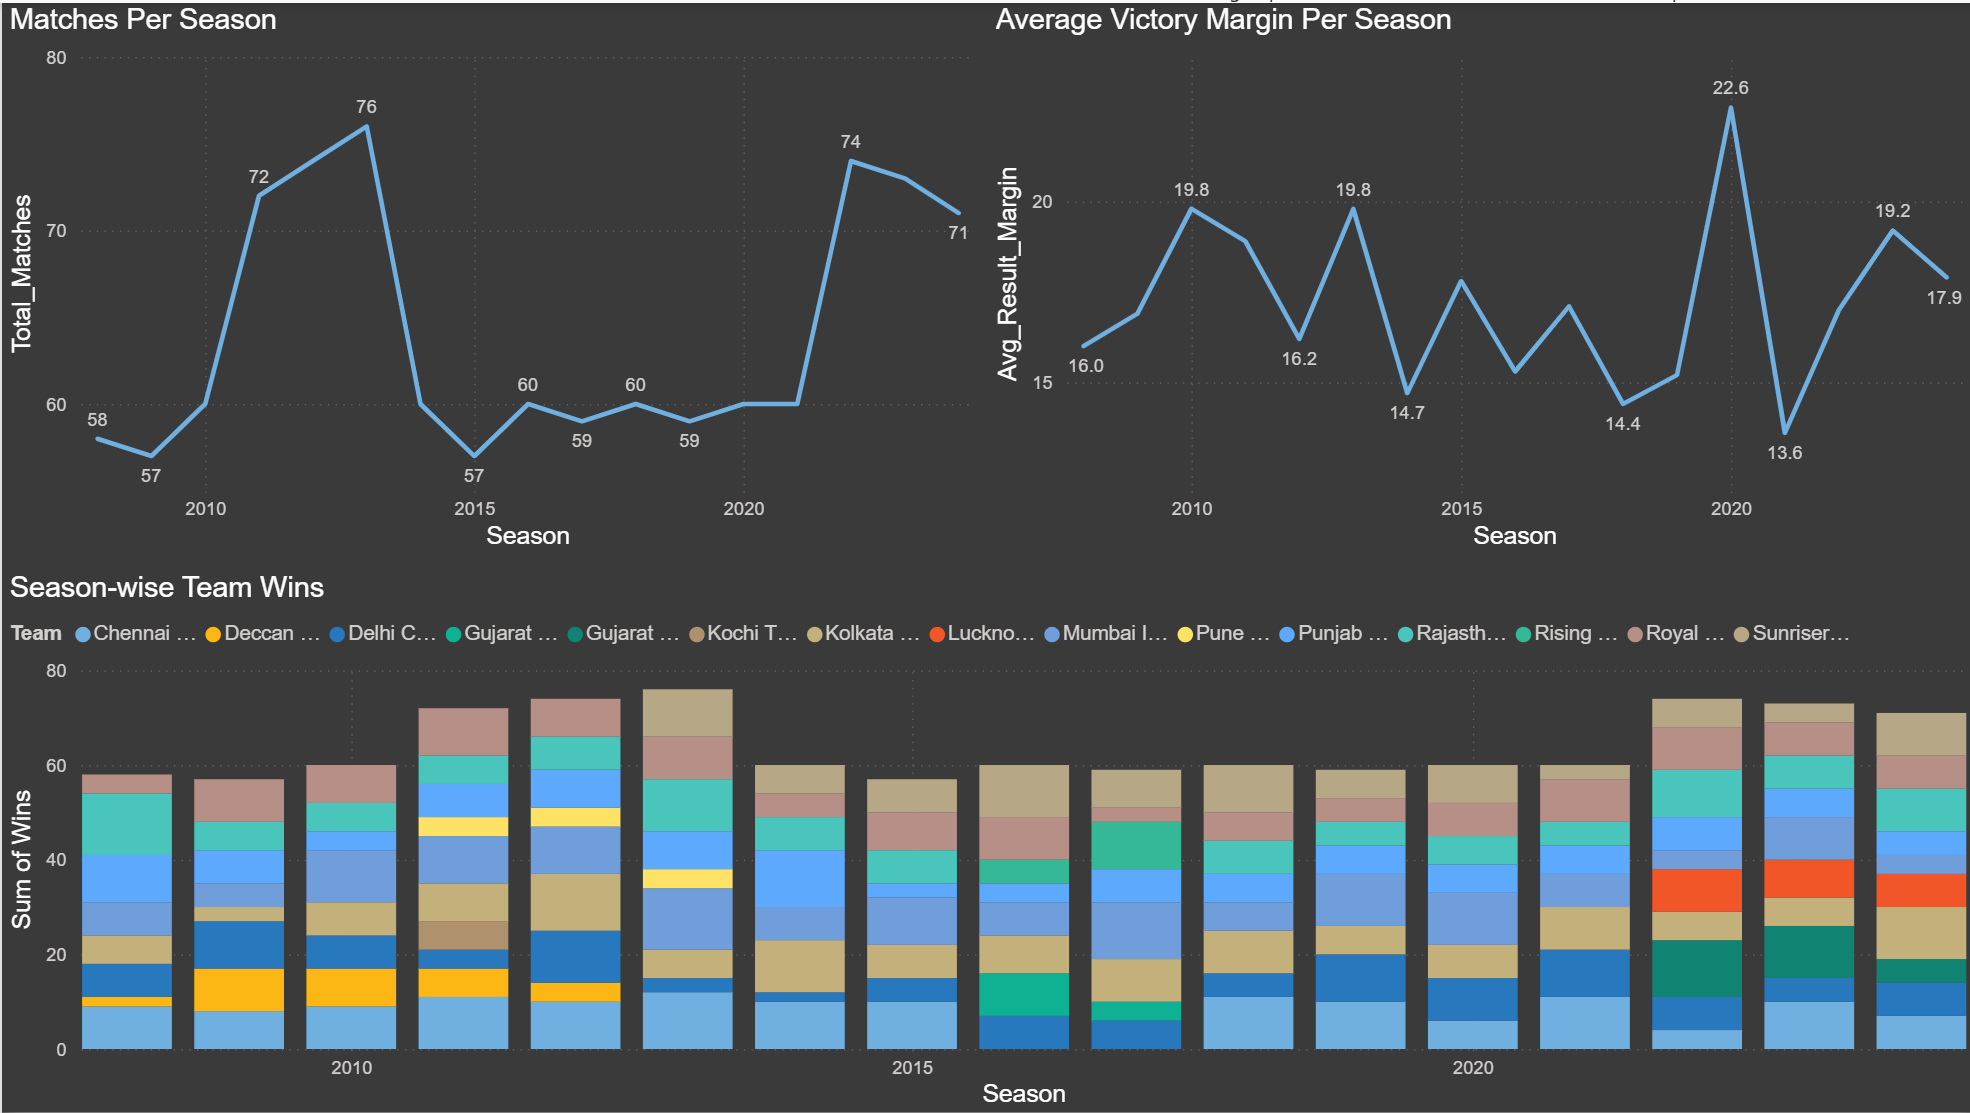

This screenshot's page, from the dashboard's own definition file:
{"tool":"powerbi","page":{"name":"Season Trends","canvas":[1280,720],"ordinal":1},"visuals":[{"type":"lineChart","title":"Matches Per Season","fields":{"Category":["pbi_season_summary.Season"],"Y":["Sum(pbi_season_summary.Total_Matches)"]},"box":[0,0,640,359.6],"z":0},{"type":"lineChart","title":"Average Victory Margin Per Season","fields":{"Category":["pbi_season_summary.Season"],"Y":["Sum(pbi_season_summary.Avg_Result_Margin)"]},"box":[640,0,641.3,359.6],"z":1},{"type":"columnChart","title":"Season-wise Team Wins","fields":{"Series":["pbi_team_season_wins.Team"],"Category":["pbi_team_season_wins.Season"],"Y":["Sum(pbi_team_season_wins.Wins)"]},"box":[0,368.7,1280,353.1],"z":2}]}

Visuals, with their boxes in screenshot pixels (x1, y1, x2, y2), scaled from the page's 1280x720 canvas onto the 1970x1113 screenshot:
"Matches Per Season" lineChart: {"x1": 0, "y1": 0, "x2": 985, "y2": 556}
"Average Victory Margin Per Season" lineChart: {"x1": 985, "y1": 0, "x2": 1969, "y2": 556}
"Season-wise Team Wins" columnChart: {"x1": 0, "y1": 570, "x2": 1969, "y2": 1112}
